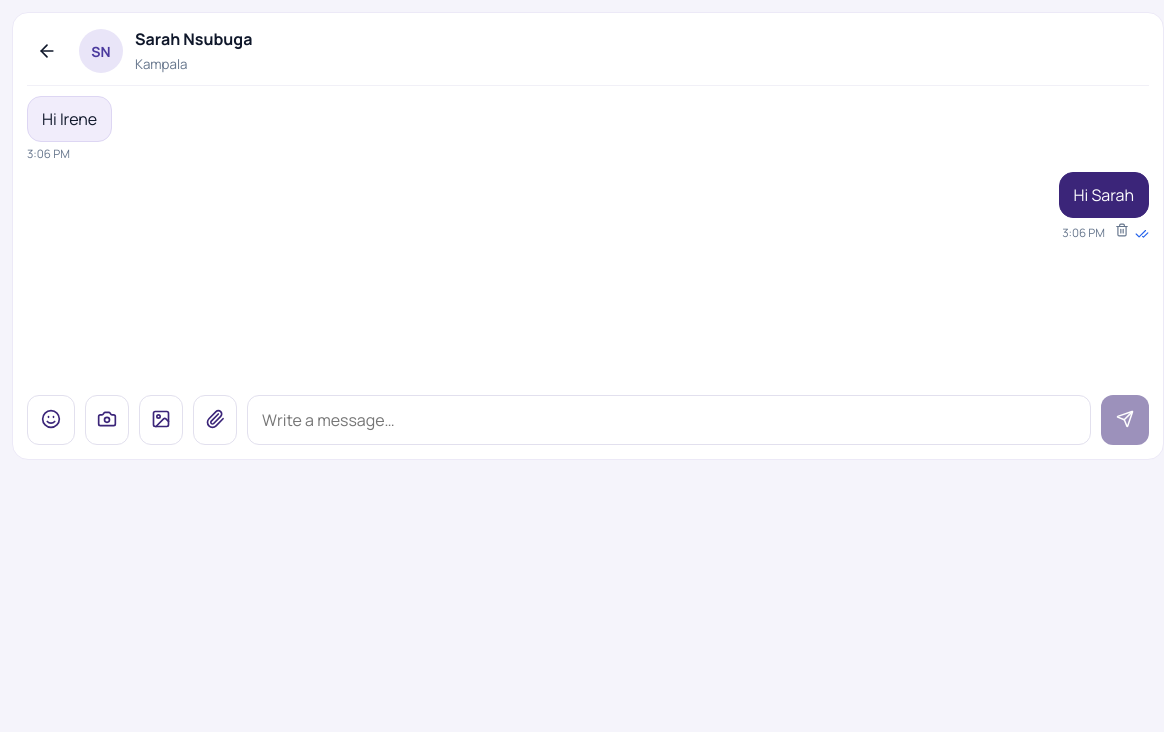
Test case: MessagesPage › goes back from a chat to the list of conversations
Expected: the text "Hi Irene" is shown, x1=27 y1=96 x2=112 y2=142
Click the button named "Back to messages".
click(47, 51)  # box x1=27 y1=31 x2=67 y2=71
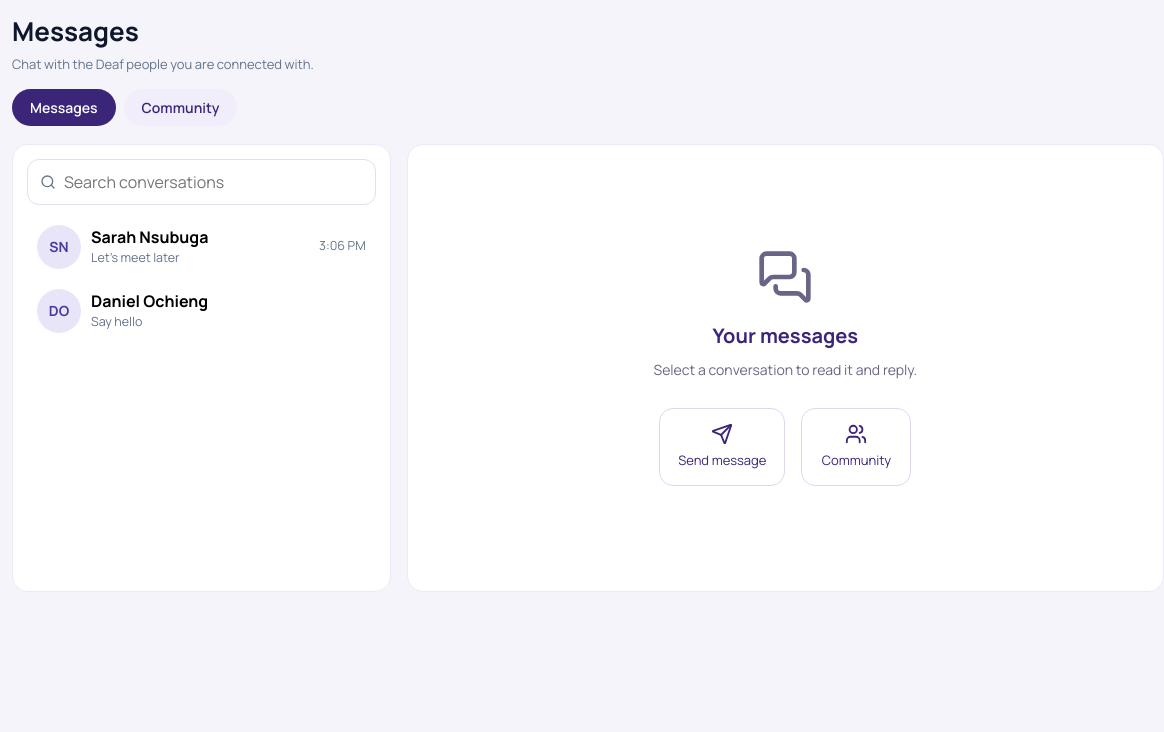
Expected: the search field labelled "Search conversations" is shown, x1=64 y1=160 x2=363 y2=204
Expected: the text "Hi Irene" is gone
